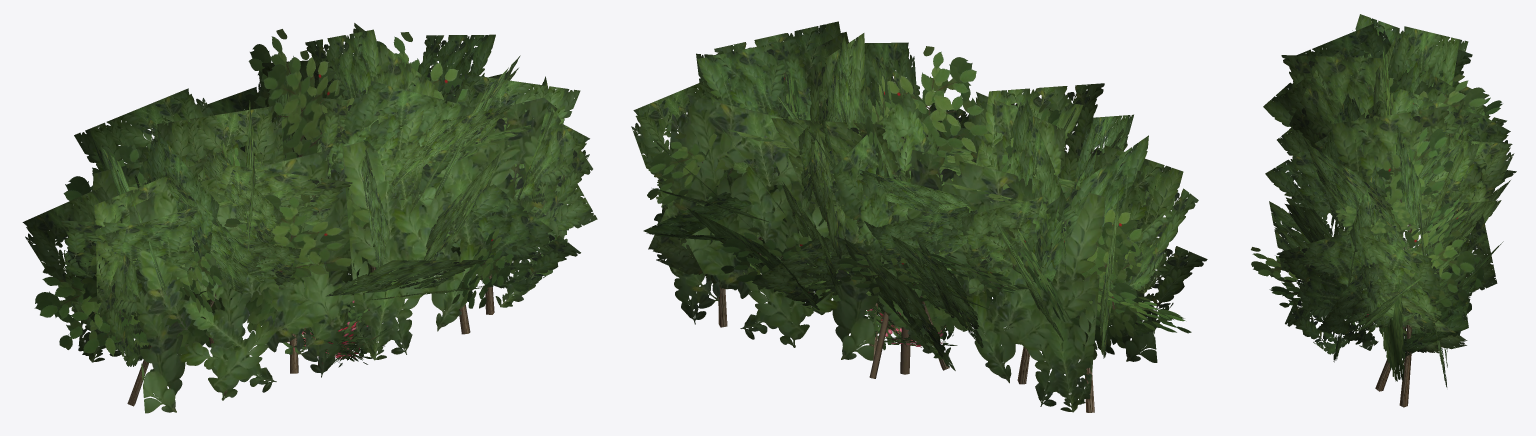
The model's file is hedgerow_bay.glb.
3 views of the same model, side by side, from view 1: azimuth 30°, elevation 25°; view 2: azimuth 150°, elevation 25°; view 3: azimuth 270°, elevation 25° (orthographic). The views are drawn at different scales.
Visible parts, largest first — view 1: hedgerow_bay_LOD0, hedgerow_bay_FAR, vineyard_rose_post_LOD0; view 2: hedgerow_bay_LOD0, hedgerow_bay_FAR, vineyard_rose_post_LOD0; view 3: hedgerow_bay_LOD0, hedgerow_bay_FAR.
Boxes of the visible parts, box(x1,y1,x2,y2) form: hedgerow_bay_LOD0: box(22, 23, 597, 406); hedgerow_bay_FAR: box(78, 73, 567, 413); vineyard_rose_post_LOD0: box(276, 280, 396, 371); hedgerow_bay_LOD0: box(631, 21, 1207, 412); hedgerow_bay_FAR: box(669, 85, 1157, 412); vineyard_rose_post_LOD0: box(865, 253, 957, 378); hedgerow_bay_LOD0: box(1251, 14, 1516, 407); hedgerow_bay_FAR: box(1331, 56, 1447, 387).
Size of what is drawn, in the model's own units: 6.67 by 3.82 by 3.35.
1 material, 1 textured.
